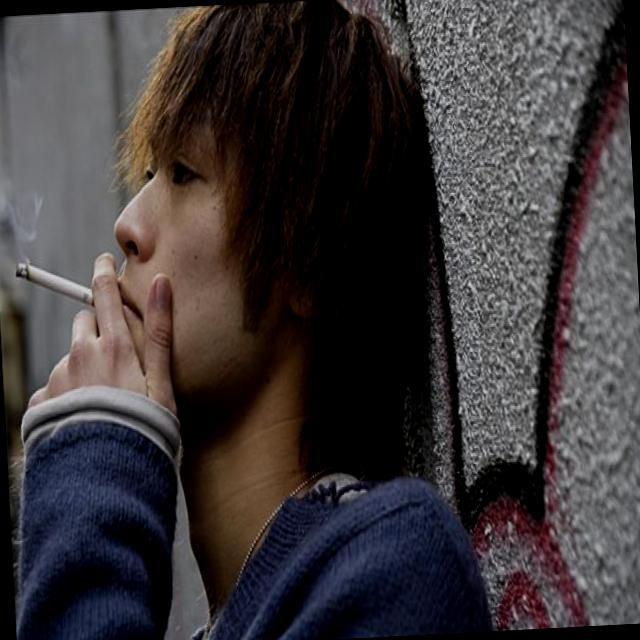smoke: (14, 256, 97, 310)
